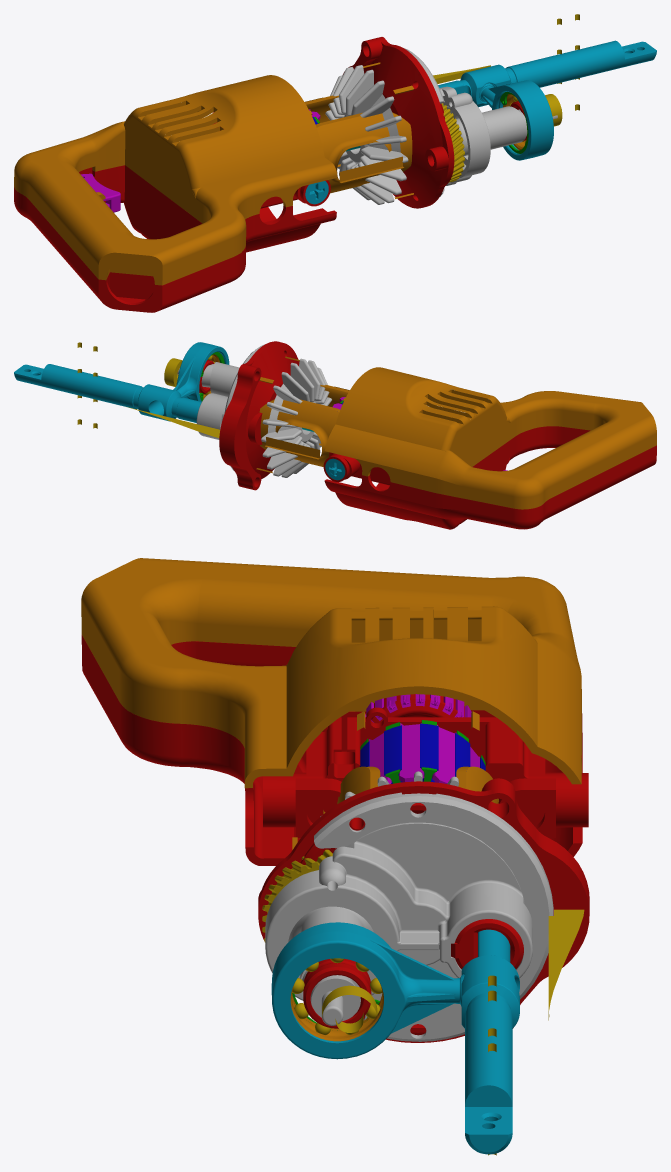
The model's file is ReciprocatingSaw.gltf.
3 renders of one model, top to bottom at view 1: azimuth 30°, elevation 25°; view 2: azimuth 150°, elevation 25°; view 3: azimuth 270°, elevation 25°, orthographic. The views are drawn at different scales.
Parts seen in each view (by area): view 1: body_5, body_1, body_59, body_57, body_142, body_15, body_150, body_140, body_148, body_7, body_144, body_17 (+4 smaller); view 2: body_5, body_1, body_59, body_142, body_57, body_15, body_150, body_140, body_7, body_148, body_23, body_17 (+3 smaller); view 3: body_5, body_140, body_23, body_1, body_150, body_142, body_59, body_148, body_83, body_138, body_146, body_165 (+5 smaller).
Part boxes in pixels (bbox=[...]): body_5: bbox=[14, 75, 336, 285]; body_1: bbox=[14, 165, 336, 312]; body_59: bbox=[343, 37, 454, 208]; body_57: bbox=[325, 65, 408, 204]; body_142: bbox=[438, 40, 656, 107]; body_15: bbox=[306, 97, 412, 193]; body_150: bbox=[479, 80, 553, 160]; body_140: bbox=[404, 48, 490, 196]; body_148: bbox=[456, 106, 557, 156]; body_7: bbox=[106, 100, 223, 279]; body_144: bbox=[441, 103, 464, 182]; body_17: bbox=[339, 156, 403, 182]; body_5: bbox=[324, 367, 656, 509]; body_1: bbox=[324, 426, 656, 529]; body_59: bbox=[219, 341, 299, 490]; body_142: bbox=[14, 364, 201, 422]; body_57: bbox=[261, 358, 331, 477]; body_15: bbox=[259, 386, 347, 466]; body_150: bbox=[173, 342, 229, 401]; body_140: bbox=[196, 344, 264, 470]; body_7: bbox=[419, 389, 492, 426]; body_148: bbox=[177, 362, 239, 396]; body_23: bbox=[323, 452, 390, 485]; body_17: bbox=[265, 437, 319, 459]; body_5: bbox=[81, 558, 581, 788]; body_140: bbox=[265, 792, 553, 1041]; body_23: bbox=[263, 707, 588, 837]; body_1: bbox=[81, 635, 582, 865]; body_150: bbox=[271, 922, 464, 1059]; body_142: bbox=[461, 929, 519, 1154]; body_59: bbox=[258, 778, 589, 1042]; body_148: bbox=[288, 906, 373, 1025]; body_83: bbox=[359, 723, 485, 783]; body_138: bbox=[548, 909, 584, 1020]; body_146: bbox=[451, 919, 523, 969]; body_165: bbox=[303, 959, 371, 1028].
Bounding box in the file's own units: 375 × 83.92 × 149.
